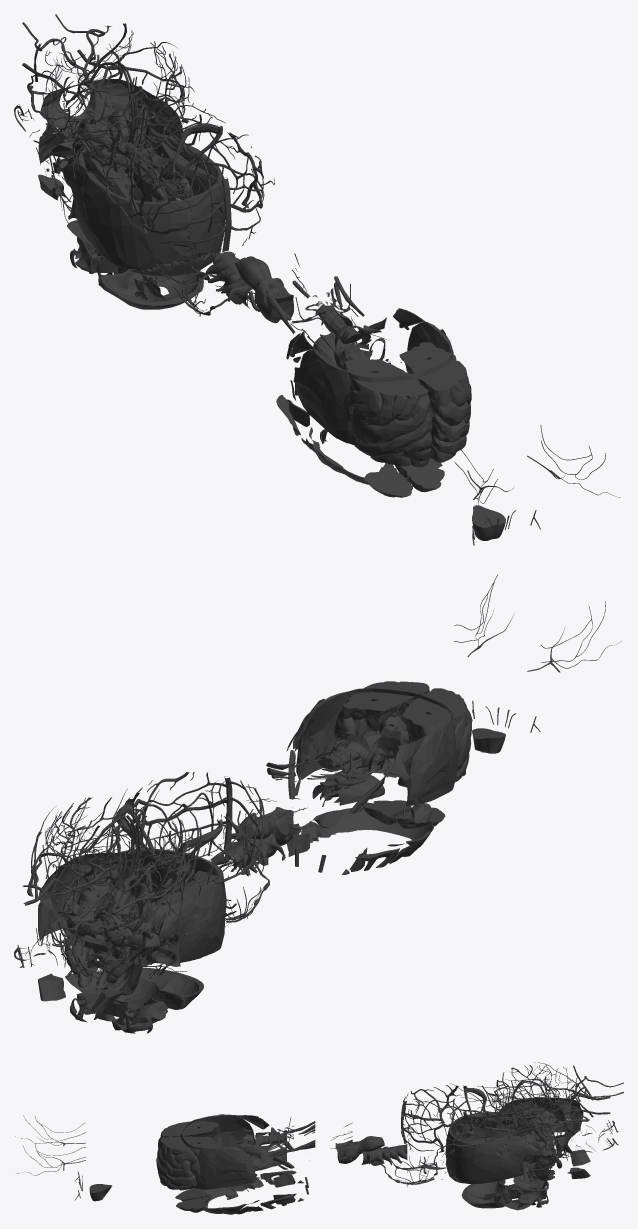
The model's file is sharedassets107.glb.
3 renders of one model, top to bottom at view 1: azimuth 30°, elevation 25°; view 2: azimuth 150°, elevation 25°; view 3: azimuth 270°, elevation 25°, orthographic. The views are drawn at different scales.
Visible parts, largest first — view 1: 0929_Cerebrum, R__002137-03, 0722_Parietal, R__001095-03, 0930_Cerebrum, L__002124-03, 1004_Parietal, R__001095-02, 1133_Cerebrum, R__002137-02, 0936_Dura mater, head region__302233-03, 0629_Frontal__001097-01, 1071_Temporalis, R__1000417-02, 0725_Parietal, L__001094-03, 1134_Cerebrum, L__002124-02, 1137_Dura mater, head region__302233-02, 0941_Dura mater, cervical region__302204-03 (+8 smaller); view 2: 0930_Cerebrum, L__002124-03, 0929_Cerebrum, R__002137-03, 0936_Dura mater, head region__302233-03, 0629_Frontal__001097-01, 1057_Temporal, R__001120-02, 0722_Parietal, R__001095-03, 1071_Temporalis, R__1000417-02, 0800_Temporal, R__001120-03, 0941_Dura mater, cervical region__302204-03, 1137_Dura mater, head region__302233-02, 1075_Temporalis, L__1000416-02, 0808_Temporalis, L__1000416-03 (+7 smaller); view 3: 0930_Cerebrum, L__002124-03, 0725_Parietal, L__001094-03, 0936_Dura mater, head region__302233-03, 1075_Temporalis, L__1000416-02, 1005_Parietal, L__001094-02, 0629_Frontal__001097-01, 0929_Cerebrum, R__002137-03, 1134_Cerebrum, L__002124-02, 1137_Dura mater, head region__302233-02, 1044_Temporal, L__001110-02, 0941_Dura mater, cervical region__302204-03, 0808_Temporalis, L__1000416-03 (+15 smaller).
Part boxes in pixels (<box>): 0929_Cerebrum, R__002137-03: <box>342,359,431,430</box>; 0722_Parietal, R__001095-03: <box>82,171,191,237</box>; 0930_Cerebrum, L__002124-03: <box>399,342,471,425</box>; 1004_Parietal, R__001095-02: <box>84,209,192,270</box>; 1133_Cerebrum, R__002137-02: <box>343,408,432,467</box>; 0936_Dura mater, head region__302233-03: <box>40,79,183,154</box>; 0629_Frontal__001097-01: <box>98,261,203,309</box>; 1071_Temporalis, R__1000417-02: <box>296,383,352,443</box>; 0725_Parietal, L__001094-03: <box>183,146,225,234</box>; 1134_Cerebrum, L__002124-02: <box>429,403,470,462</box>; 1137_Dura mater, head region__302233-02: <box>38,109,180,189</box>; 0941_Dura mater, cervical region__302204-03: <box>206,251,284,308</box>; 0930_Cerebrum, L__002124-03: <box>334,681,429,738</box>; 0929_Cerebrum, R__002137-03: <box>402,688,472,750</box>; 0936_Dura mater, head region__302233-03: <box>38,852,182,926</box>; 0629_Frontal__001097-01: <box>140,967,203,1009</box>; 1057_Temporal, R__001120-02: <box>141,924,213,966</box>; 0722_Parietal, R__001095-03: <box>187,855,226,924</box>; 1071_Temporalis, R__1000417-02: <box>406,749,457,805</box>; 0800_Temporal, R__001120-03: <box>152,897,208,940</box>; 0941_Dura mater, cervical region__302204-03: <box>209,833,284,876</box>; 1137_Dura mater, head region__302233-02: <box>38,884,180,961</box>; 1075_Temporalis, L__1000416-02: <box>296,726,336,779</box>; 0808_Temporalis, L__1000416-03: <box>299,691,349,747</box>; 0930_Cerebrum, L__002124-03: <box>156,1136,219,1169</box>; 0725_Parietal, L__001094-03: <box>445,1129,508,1163</box>; 0936_Dura mater, head region__302233-03: <box>495,1097,583,1145</box>; 1075_Temporalis, L__1000416-02: <box>195,1163,255,1189</box>; 1005_Parietal, L__001094-02: <box>445,1150,498,1183</box>; 0629_Frontal__001097-01: <box>461,1180,508,1208</box>; 0929_Cerebrum, R__002137-03: <box>158,1121,222,1148</box>; 1134_Cerebrum, L__002124-02: <box>156,1159,200,1190</box>; 1137_Dura mater, head region__302233-02: <box>494,1112,581,1161</box>; 1044_Temporal, L__001110-02: <box>492,1155,540,1180</box>; 0941_Dura mater, cervical region__302204-03: <box>362,1144,407,1165</box>; 0808_Temporalis, L__1000416-03: <box>197,1147,253,1168</box>.
Bounding box in the file's own units: 0.0688 × 0.108 × 0.4567.
1 material, 1 textured.
